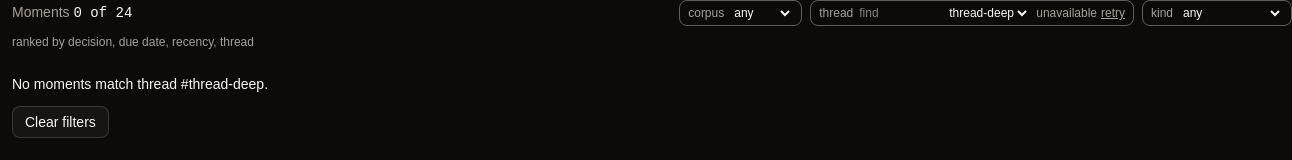
F11 owner ruling: complete searchable thread source › announces catalog failure, retains a deep link, and retries
The width and height of the screenshot is (1292, 160).
Expected: the message named "Thread catalog unavailable" shows "unavailable", [1036, 6, 1097, 20]
Expected: the dropdown with test id "filter-thread" shows "thread-deep", [945, 5, 1030, 21]
Step 1. Click the button named "Retry thread catalog" → (1113, 13), box [1101, 5, 1125, 21]
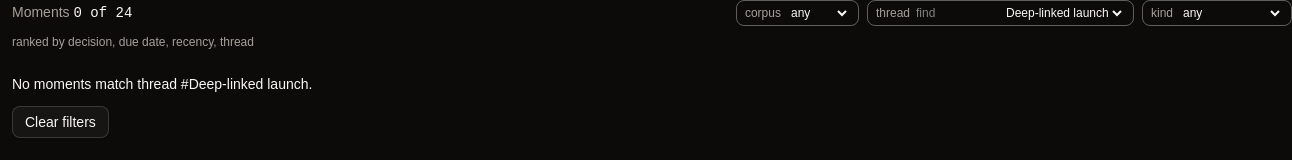
Now the dropdown with test id "filter-thread" shows "Deep-linked launch", box [1002, 5, 1125, 21]
